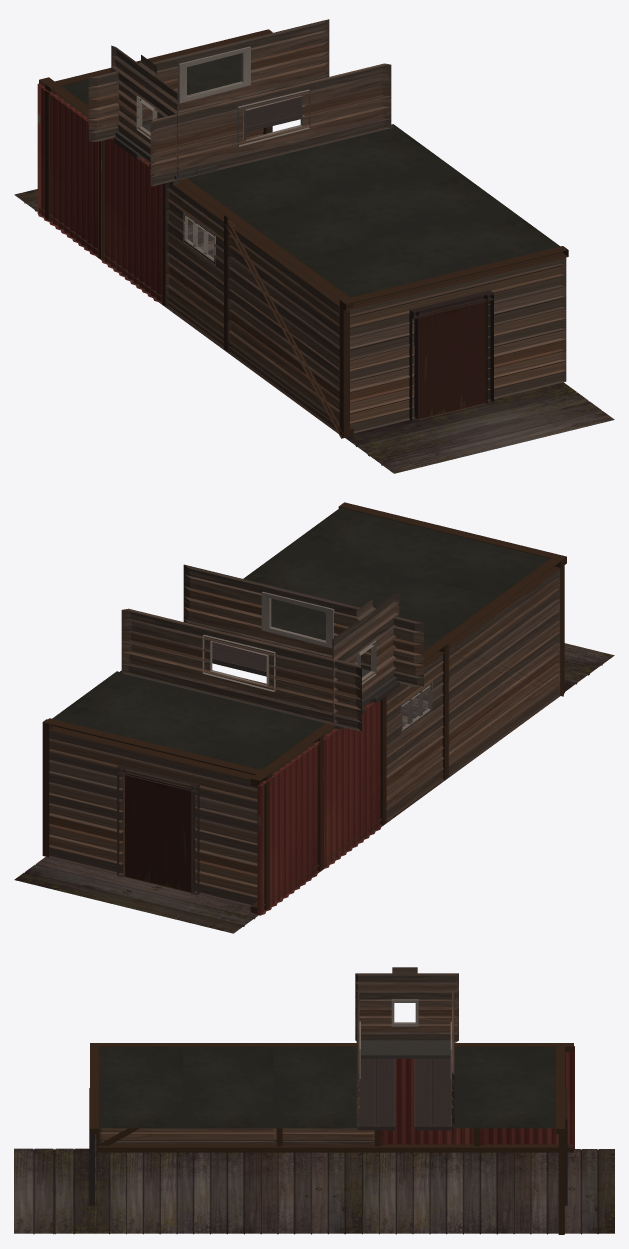
File: 1_4_SHELL.fbx
The picture shows the model from 3 angles, top to bottom: view 1: azimuth 30°, elevation 25°; view 2: azimuth 150°, elevation 25°; view 3: azimuth 270°, elevation 25°; orthographic projection. The views are drawn at different scales.
Visible parts, largest first — view 1: Caboose1_WallSample9, Caboose1_WallSample7, Caboose1_WallSample4, CabooseShell_roof1, CabooseShell_roof2, CabooseShell_roof, Caboose1_WallSample8, WallSample1, WallSample16, Alt_Door4, WallSample9, floor2 (+19 smaller); view 2: Caboose1_WallSample5, Caboose1_WallSample4, Caboose1_WallSample8, CabooseShell_roof3, CabooseShell_roof, CabooseShell_roof1, Caboose1_WallSample7, WallSample16, WallSample1, Alt_Door3, floor3, WallSample9 (+18 smaller); view 3: floor, floor3, CabooseShell_roof3, CabooseShell_roof1, CabooseShell_roof2, CabooseShell_roof, Caboose1_WallSample6, Beam28, floor2, floor1, WallSample1, Caboose1_WallSample4 (+13 smaller).
Part boxes in pixels (box(x1,y1,x2,y2)): Caboose1_WallSample9: box(350, 254, 566, 433); Caboose1_WallSample7: box(150, 63, 391, 186); Caboose1_WallSample4: box(227, 224, 339, 433); CabooseShell_roof1: box(230, 166, 507, 261); CabooseShell_roof2: box(176, 124, 449, 219); CabooseShell_roof: box(287, 208, 560, 299); Caboose1_WallSample8: box(88, 19, 329, 141); WallSample1: box(101, 138, 162, 304); WallSample16: box(37, 83, 98, 257); Alt_Door4: box(418, 299, 487, 420); WallSample9: box(166, 182, 223, 347); floor2: box(368, 401, 614, 473); Caboose1_WallSample5: box(49, 729, 257, 906); Caboose1_WallSample4: box(448, 568, 560, 776); Caboose1_WallSample8: box(121, 608, 361, 731); CabooseShell_roof3: box(52, 671, 335, 772); CabooseShell_roof: box(287, 507, 559, 599); CabooseShell_roof1: box(243, 546, 507, 641); Caboose1_WallSample7: box(183, 564, 423, 686); WallSample16: box(257, 741, 320, 915); WallSample1: box(323, 698, 384, 868); Alt_Door3: box(123, 772, 192, 893); floor3: box(14, 816, 394, 933); WallSample9: box(386, 654, 443, 821); floor: box(92, 1152, 361, 1234); floor3: box(362, 1149, 614, 1234); CabooseShell_roof3: box(452, 1047, 555, 1128); CabooseShell_roof1: box(183, 1047, 273, 1128); CabooseShell_roof2: box(273, 1047, 363, 1128); CabooseShell_roof: box(99, 1047, 182, 1128); Caboose1_WallSample6: box(355, 967, 458, 1042); Beam28: box(97, 1144, 573, 1153); floor2: box(14, 1148, 54, 1234); floor1: box(54, 1148, 92, 1234); WallSample1: box(380, 1058, 473, 1144); Caboose1_WallSample4: box(99, 1128, 276, 1144).
Bounding box in the file's own units: 615 × 551 × 1625.
